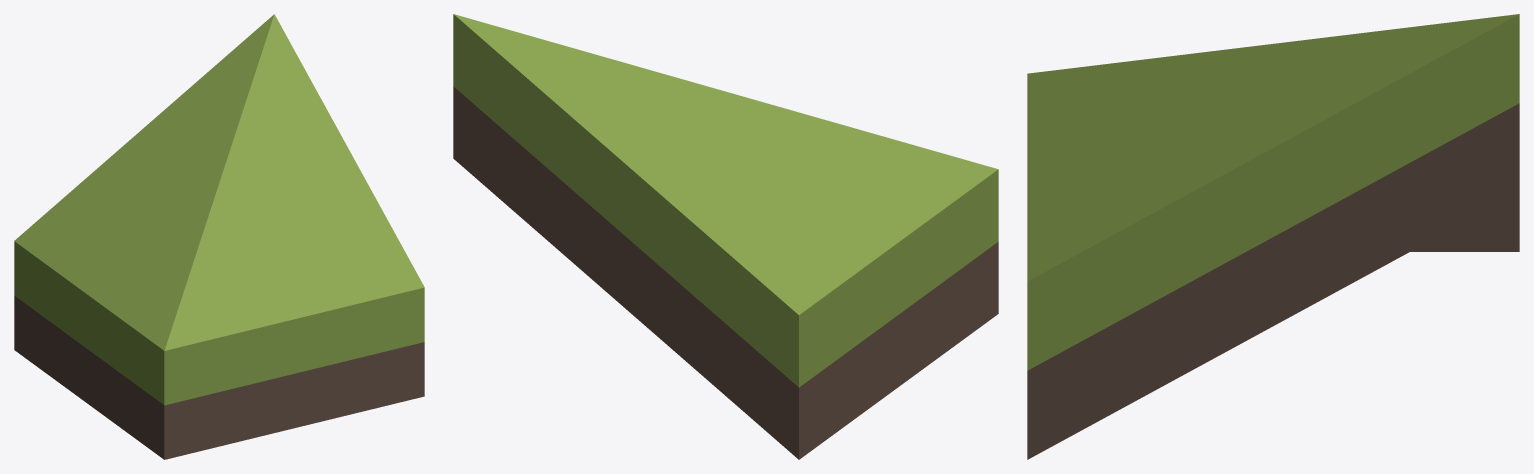
Rendered from grass-tile-hill_01-1_small.fbx.
3 renders of one model, left to right at view 1: azimuth 30°, elevation 25°; view 2: azimuth 150°, elevation 25°; view 3: azimuth 270°, elevation 25°, orthographic. The views are drawn at different scales.
Parts seen in each view (by area): view 1: grass-tile-hill_01-1_small; view 2: grass-tile-hill_01-1_small; view 3: grass-tile-hill_01-1_small.
Boxes of the visible parts, bbox=[...] form: grass-tile-hill_01-1_small: bbox=[14, 14, 424, 459]; grass-tile-hill_01-1_small: bbox=[453, 14, 998, 459]; grass-tile-hill_01-1_small: bbox=[1027, 14, 1519, 459].
Size of the model in its own units: 1000 by 1000 by 1000.
